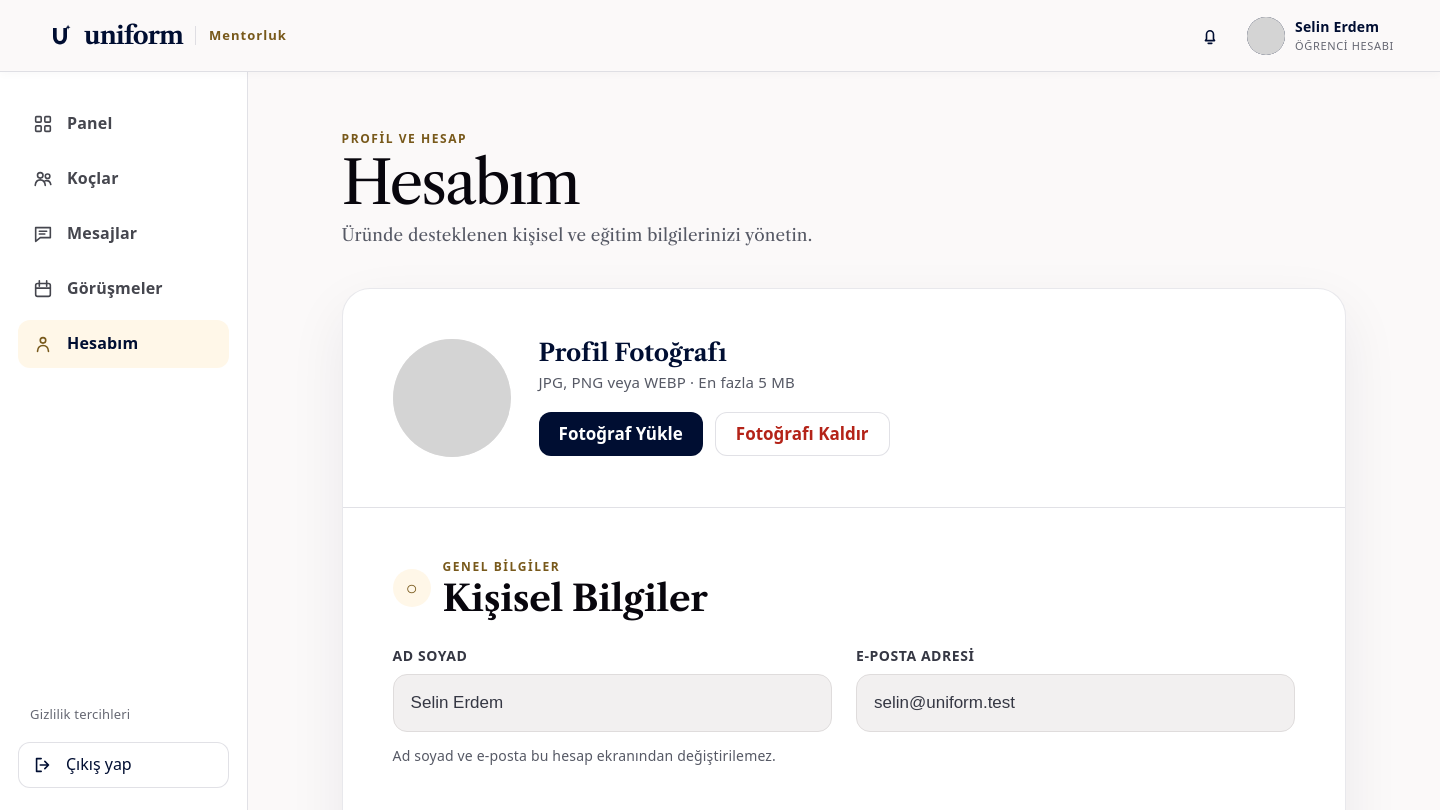
Test: shared role-aware account › confirms removal once, closes the modal, and returns the shell to initials
Click the button "Fotoğrafı Kaldır": (802, 434) 715,412 -> 890,456
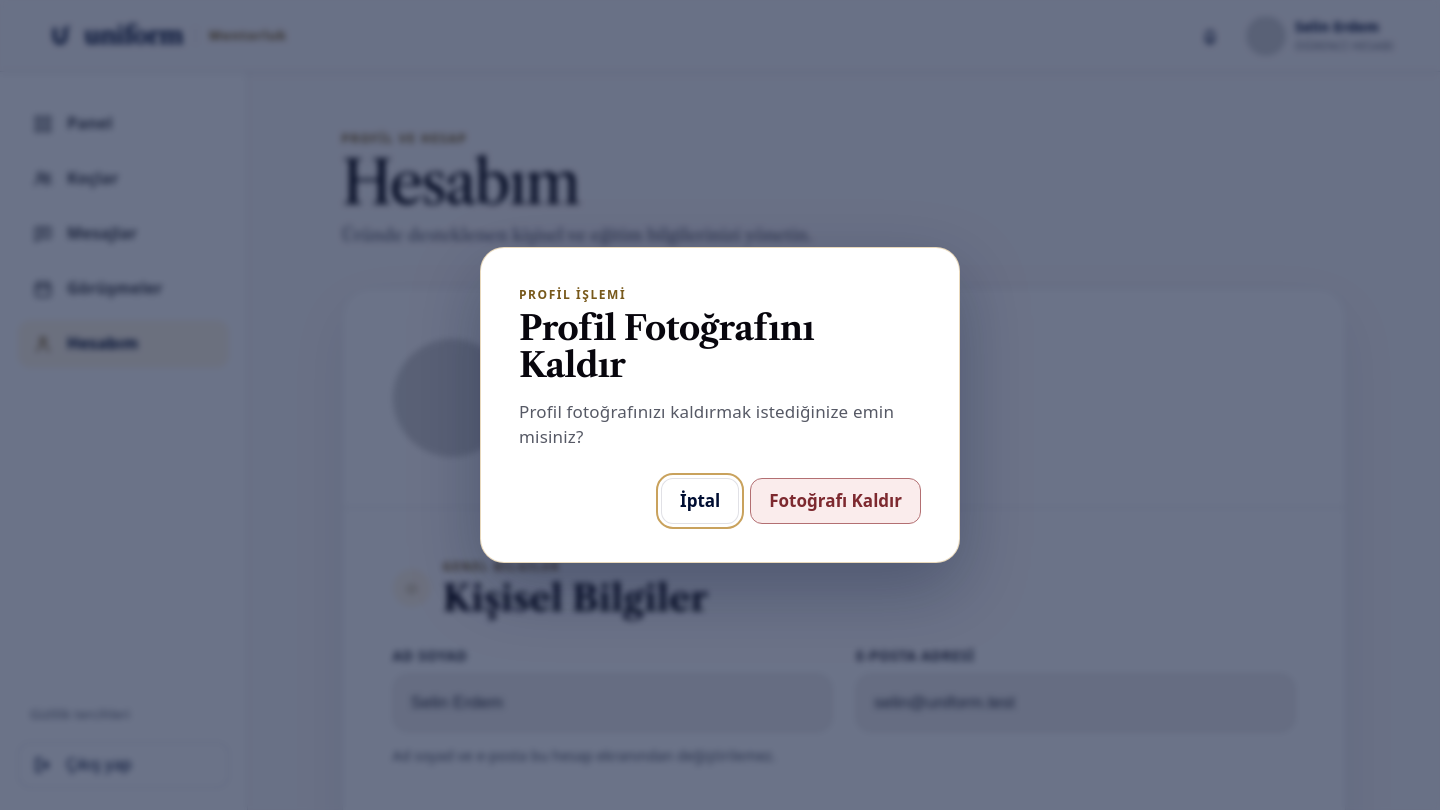
Click the button "Fotoğrafı Kaldır": (836, 501) 750,478 -> 921,524
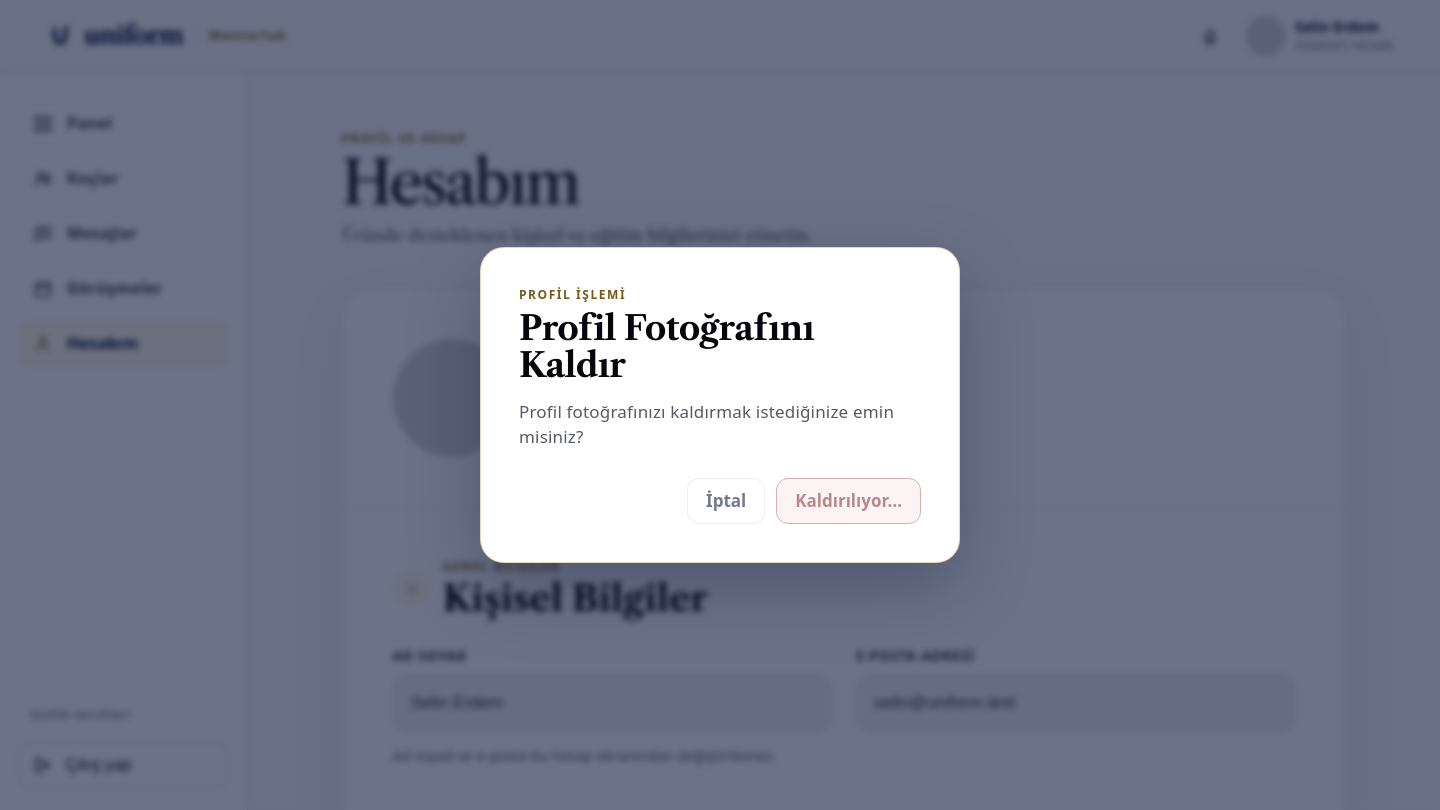
Expected: the button named "Fotoğrafı Kaldır" is disabled
Click the button named "Fotoğrafı Kaldır": (849, 501) 776,478 -> 921,524
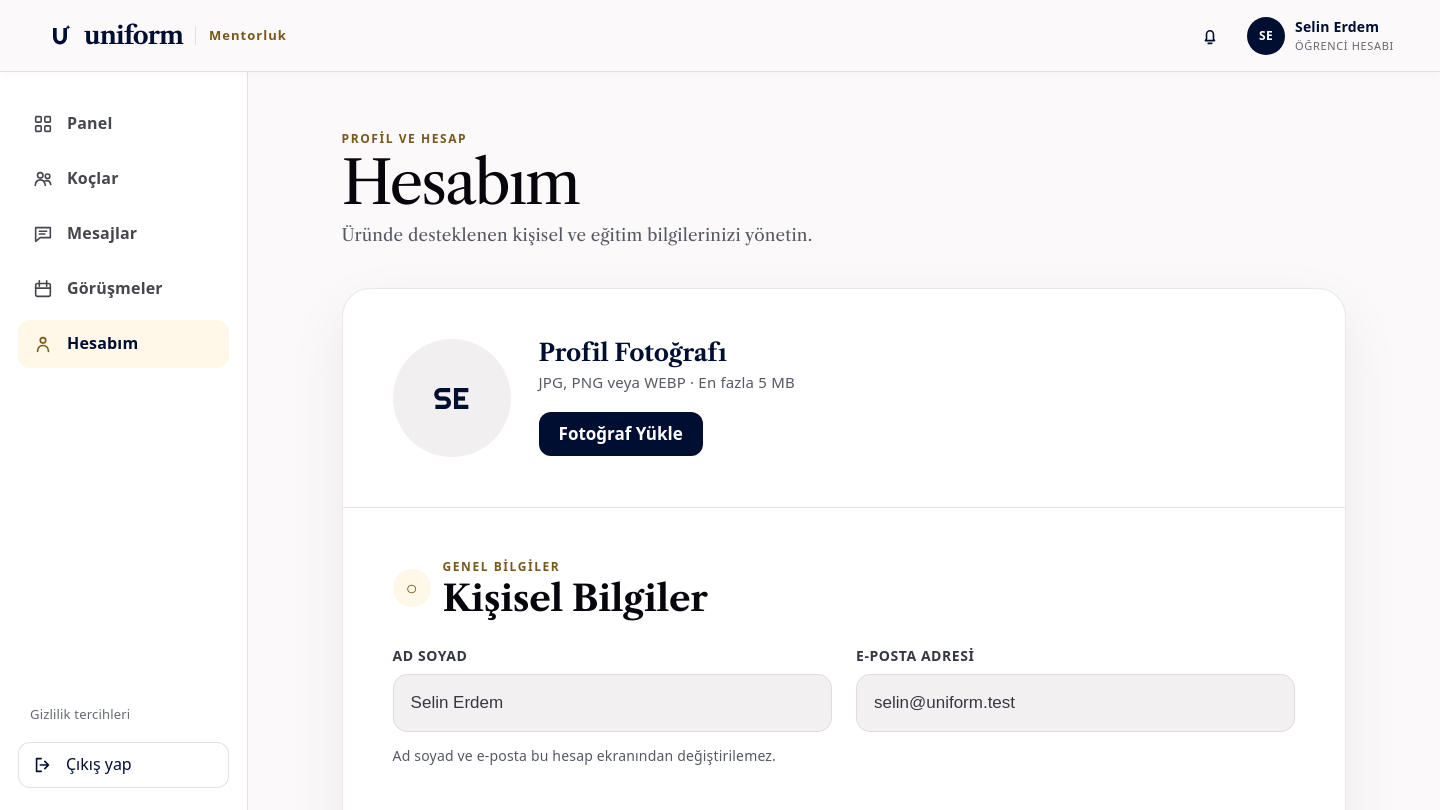
Expected: the heading "Profil Fotoğrafını Kaldır" is gone
Expected: the picture is gone
Expected: the text with class "app-layout__avatar" reads "SE", 1259,27 -> 1273,44
